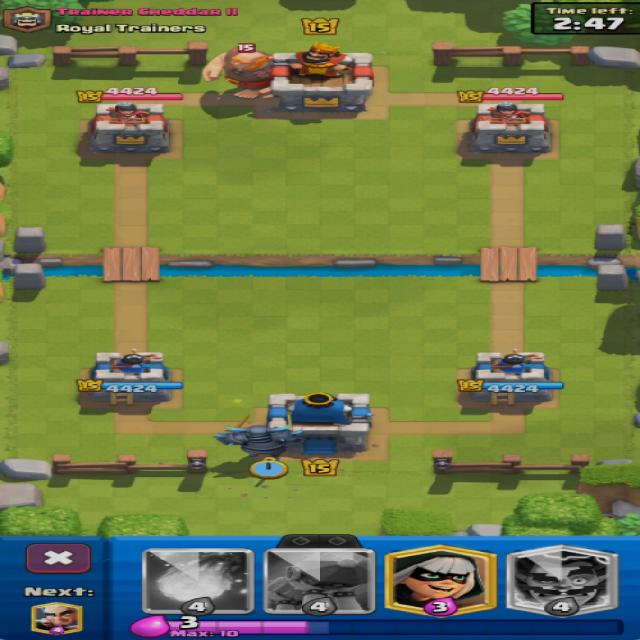Enemy-Giant: (205, 45, 271, 98)
Enemy-KingTower: (271, 44, 372, 114)
Enemy-PrincessTower: (88, 102, 169, 154), (470, 103, 550, 154)
Player-KingTower: (269, 392, 372, 457)
Player-PEKKA: (215, 414, 301, 457)
Player-PrincessTower: (78, 349, 182, 406), (470, 349, 550, 404)
